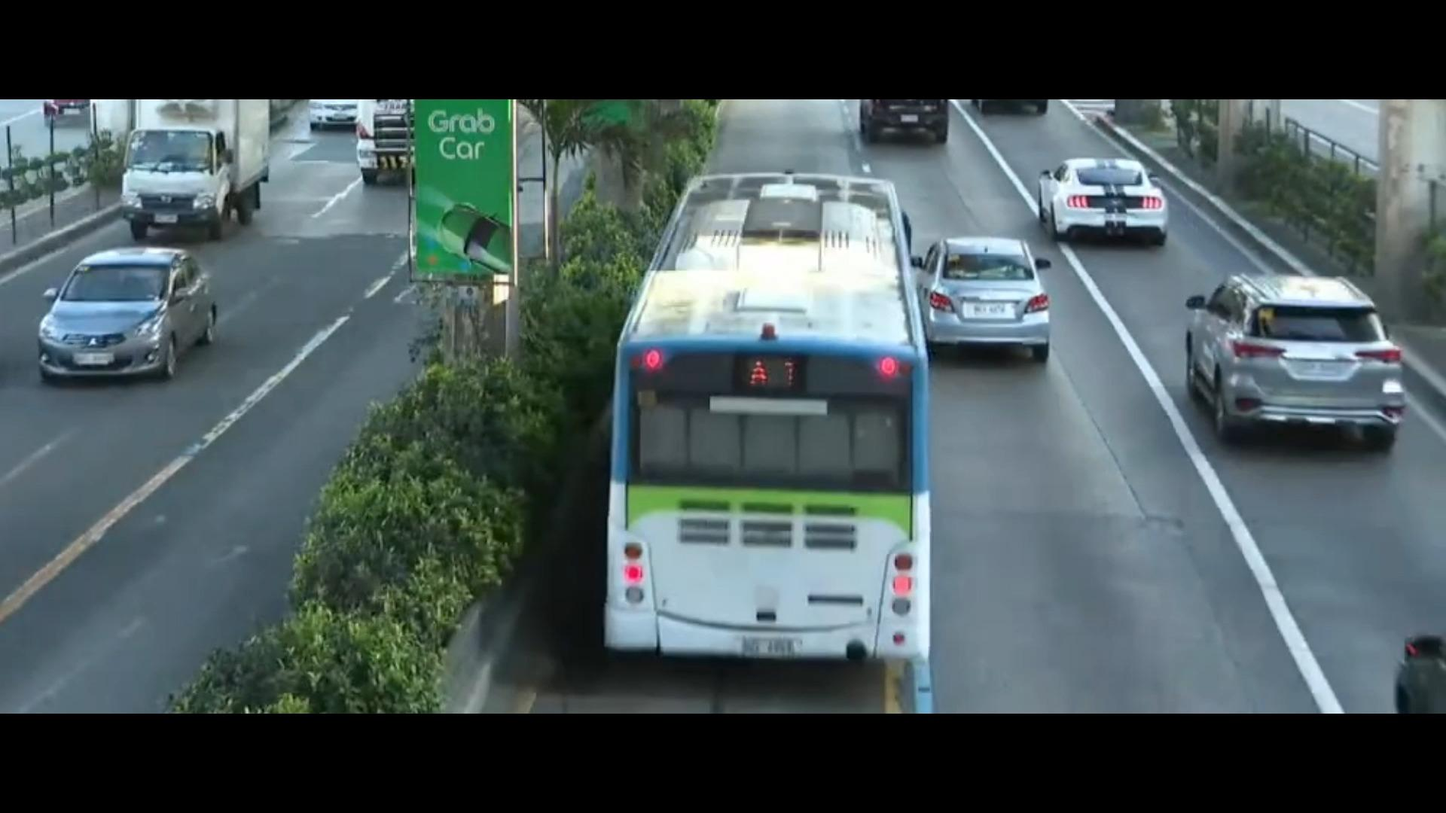Bus: (523, 164, 951, 695)
SUV: (1173, 262, 1422, 472)
Sedan: (7, 230, 219, 402), (910, 211, 1071, 379), (1050, 149, 1190, 238)
Truck: (107, 98, 279, 245)
